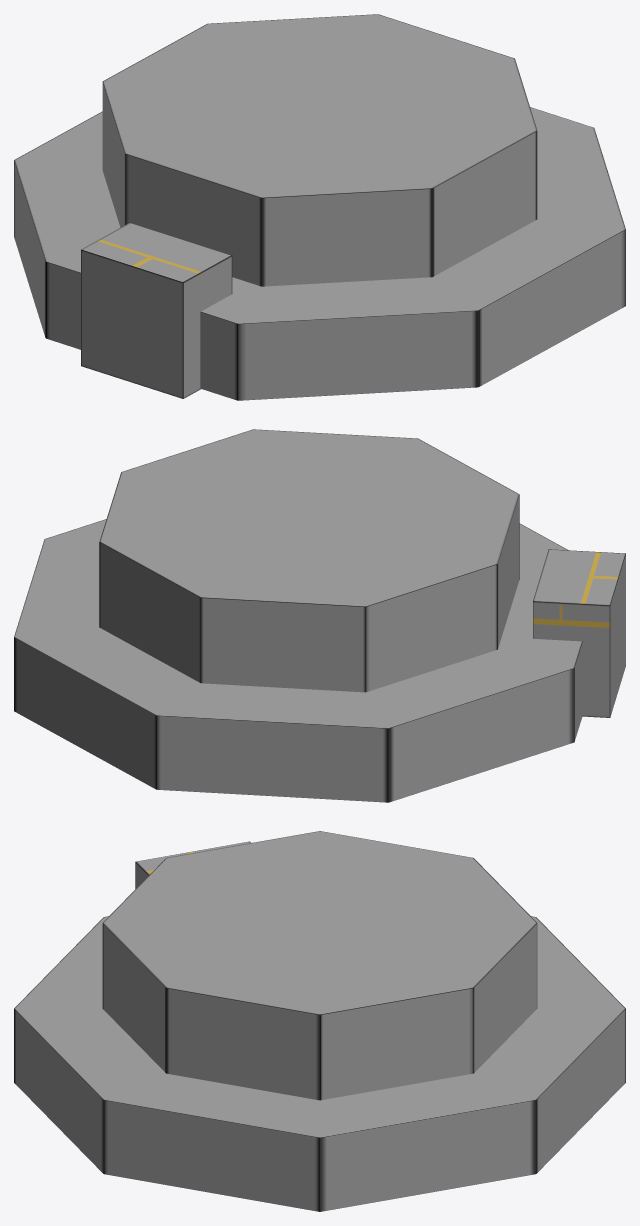
The model's file is CanonBase.obj.
3 renders of one model, top to bottom at view 1: azimuth 30°, elevation 25°; view 2: azimuth 150°, elevation 25°; view 3: azimuth 270°, elevation 25°, orthographic. The views are drawn at different scales.
Parts seen in each view (by area): view 1: canonbase; view 2: canonbase; view 3: canonbase.
Boxes of the visible parts, x1,y1,x2,y2 form: canonbase: (14,14,625,400); canonbase: (14,429,625,802); canonbase: (14,831,625,1211).
Bounding box in the file's own units: 2 × 0.5797 × 2.
